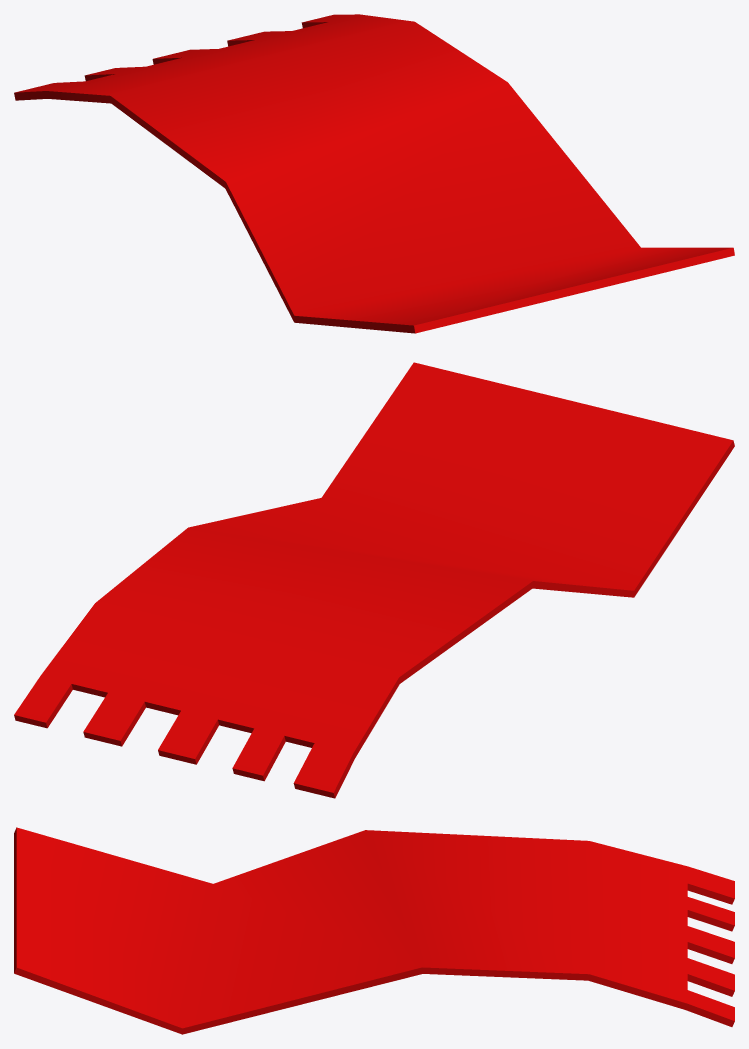
File: Asset_PudgyPartyTicket.glb
3 renders of one model, top to bottom at view 1: azimuth 30°, elevation 25°; view 2: azimuth 150°, elevation 25°; view 3: azimuth 270°, elevation 25°, orthographic. The views are drawn at different scales.
Parts seen in each view (by area): view 1: Asset_PudgyPartyTicket; view 2: Asset_PudgyPartyTicket; view 3: Asset_PudgyPartyTicket.
Part boxes in pixels (x1,y1,x2,y2): Asset_PudgyPartyTicket: [14, 14, 734, 333]; Asset_PudgyPartyTicket: [14, 362, 734, 798]; Asset_PudgyPartyTicket: [14, 827, 734, 1034].
Bounding box in the file's own units: 22.38 × 4.85 × 47.17.
